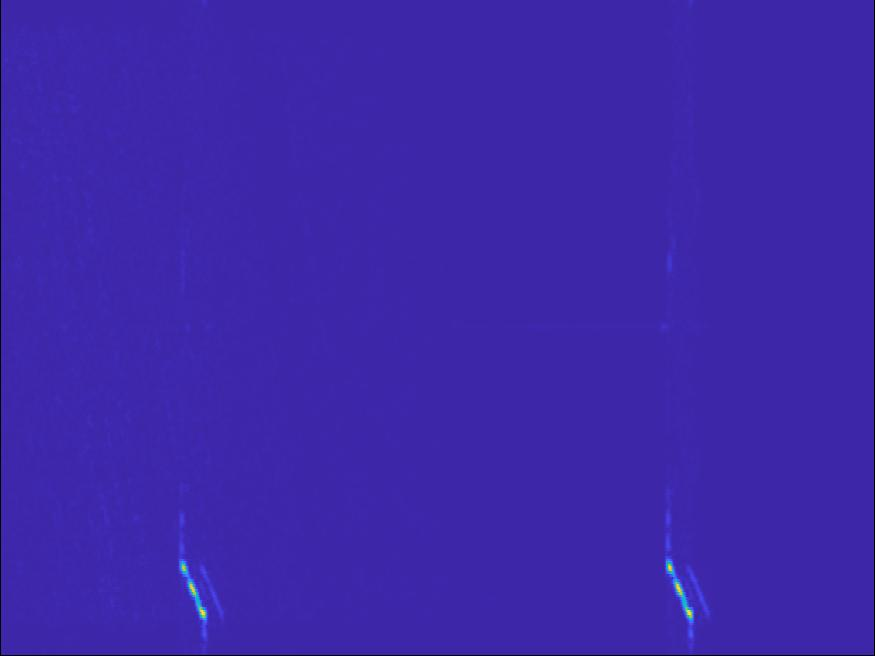Interference: (653, 519, 722, 641), (169, 533, 229, 639)
